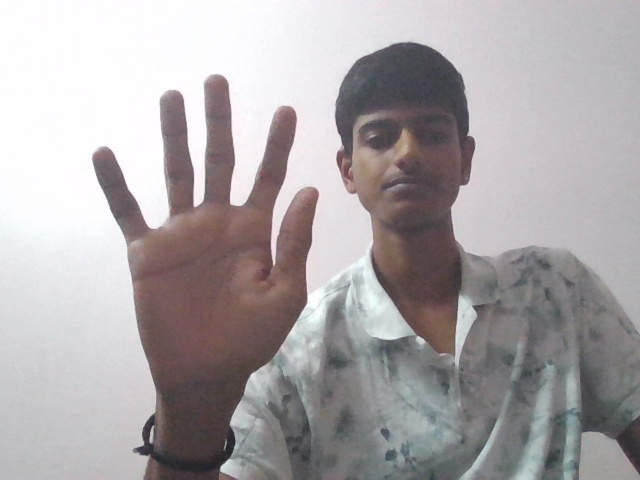hello: (76, 67, 331, 480)
